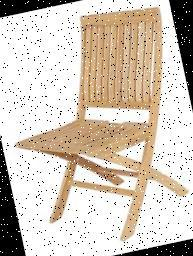Silla: (0, 1, 192, 255)
